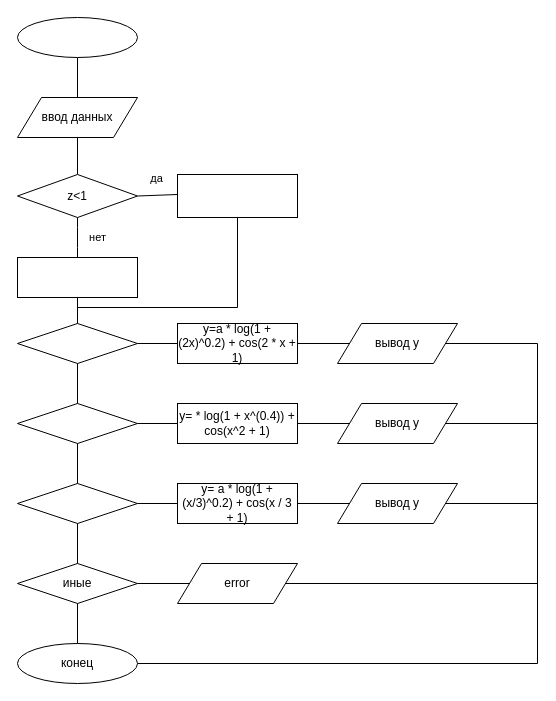
Image size: 556x701. Some labels were removed from this diagram. The shapes that lost their labels are listed below. From the top down, each one's box as (x1, y1, x2, y2) in pixels, then its label:
(16, 16, 138, 58): начало
(176, 174, 298, 218): x=z^2
(16, 256, 138, 298): x=z+1
(16, 322, 138, 364): q=1
(16, 402, 138, 444): q=2
(16, 482, 138, 524): q=3
